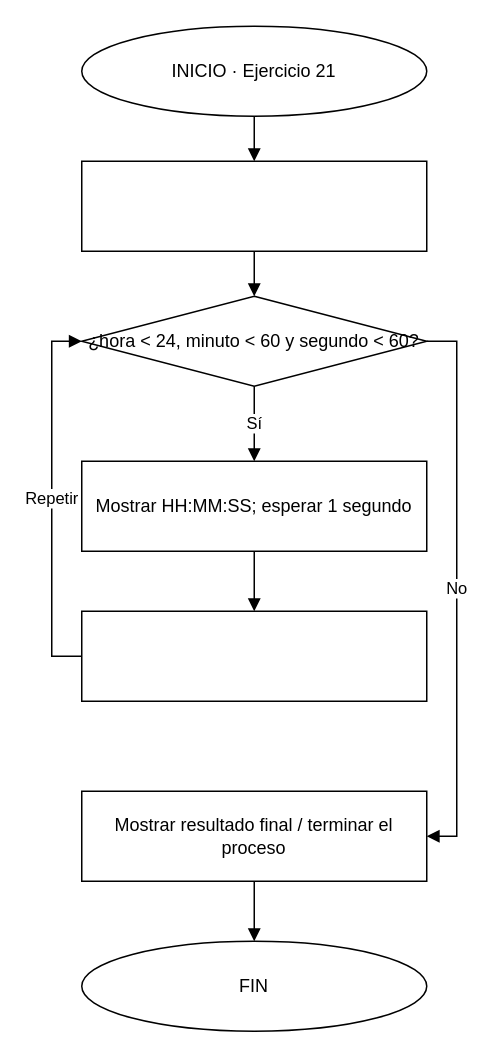
The diagram is 495 pixels wide and 1058 high, and some of its shapes have lost their labels. The centre of each missing label's shape, as x and y in pixels:
hora = 0; minuto = 0; segundo = 0: (253,205)
Incrementar segundo; ajustar minuto y hora: (253,655)
